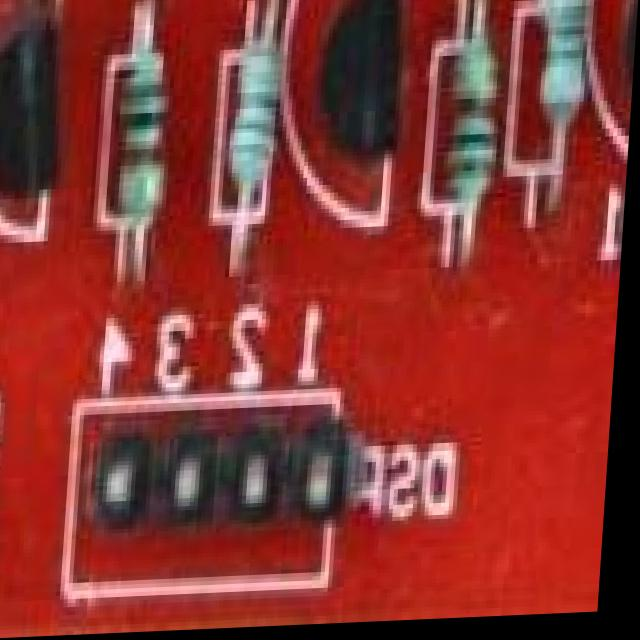connector: (75, 398, 374, 554)
resistor: (113, 5, 187, 240), (435, 0, 508, 236), (216, 10, 291, 228), (534, 0, 600, 177)
